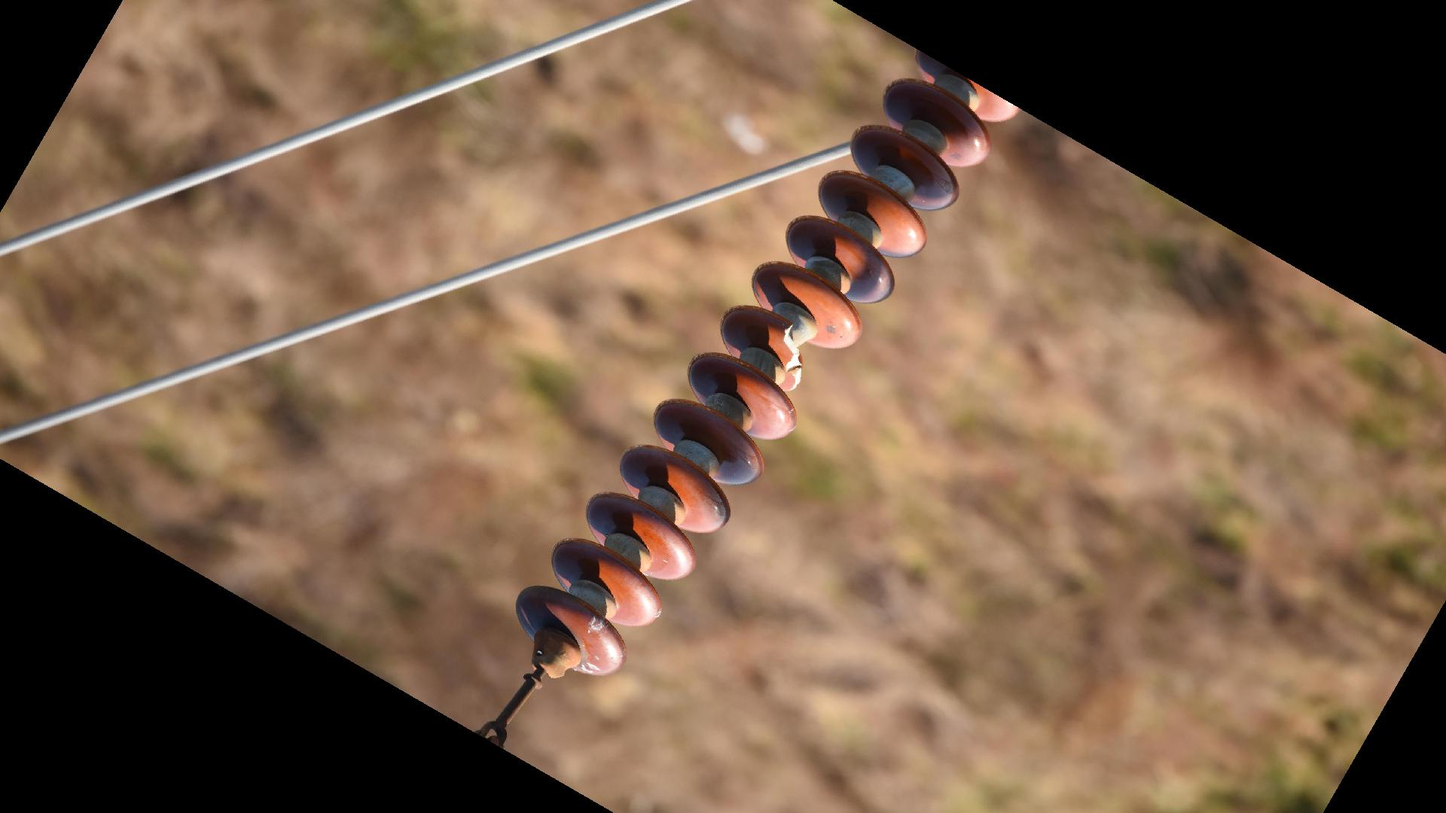insulator: (511, 47, 1021, 683)
insulator_breakage: (778, 317, 809, 395)
